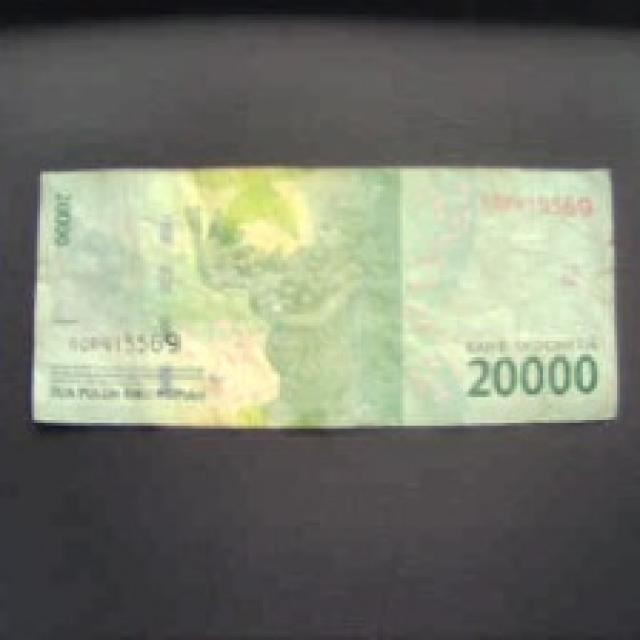dua puluh ribu rupiah: (11, 117, 640, 449)
